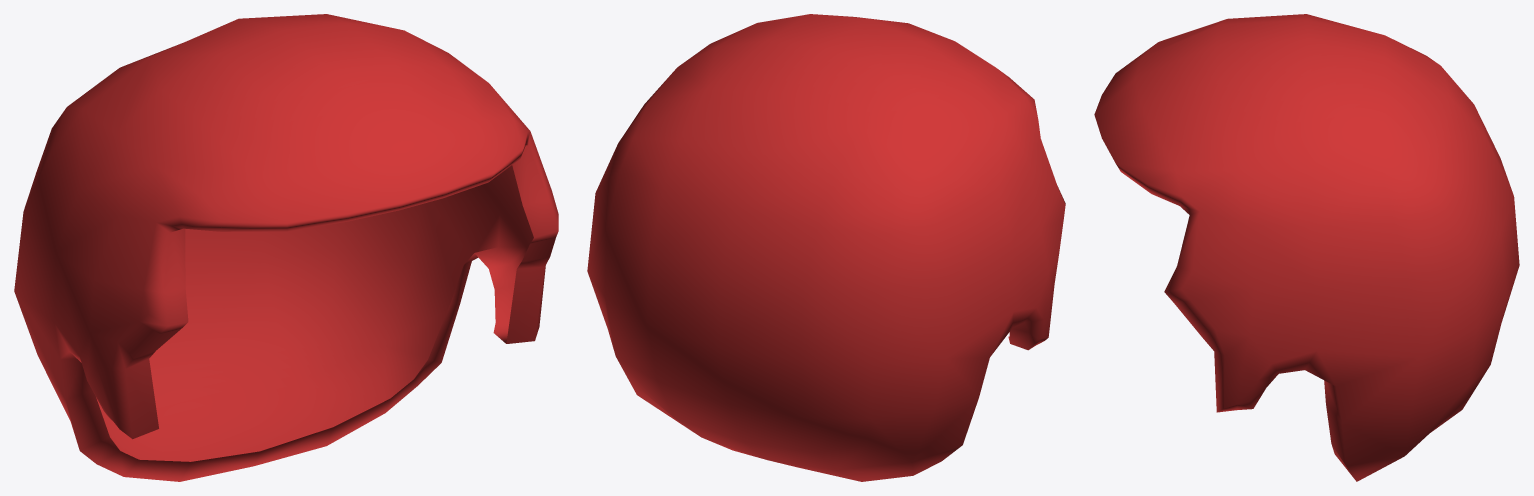
The model's file is Hair_Red_1.fbx.
3 views of the same model, side by side, from view 1: azimuth 30°, elevation 25°; view 2: azimuth 150°, elevation 25°; view 3: azimuth 270°, elevation 25° (orthographic). The views are drawn at different scales.
Visible parts, largest first — view 1: Hair_Red_1; view 2: Hair_Red_1; view 3: Hair_Red_1.
Part boxes in pixels (box(x1,y1,x2,y2)): Hair_Red_1: box(14, 14, 558, 481); Hair_Red_1: box(587, 14, 1065, 481); Hair_Red_1: box(1094, 14, 1519, 481).
Bounding box in the file's own units: 52.84 × 51.31 × 48.92.
